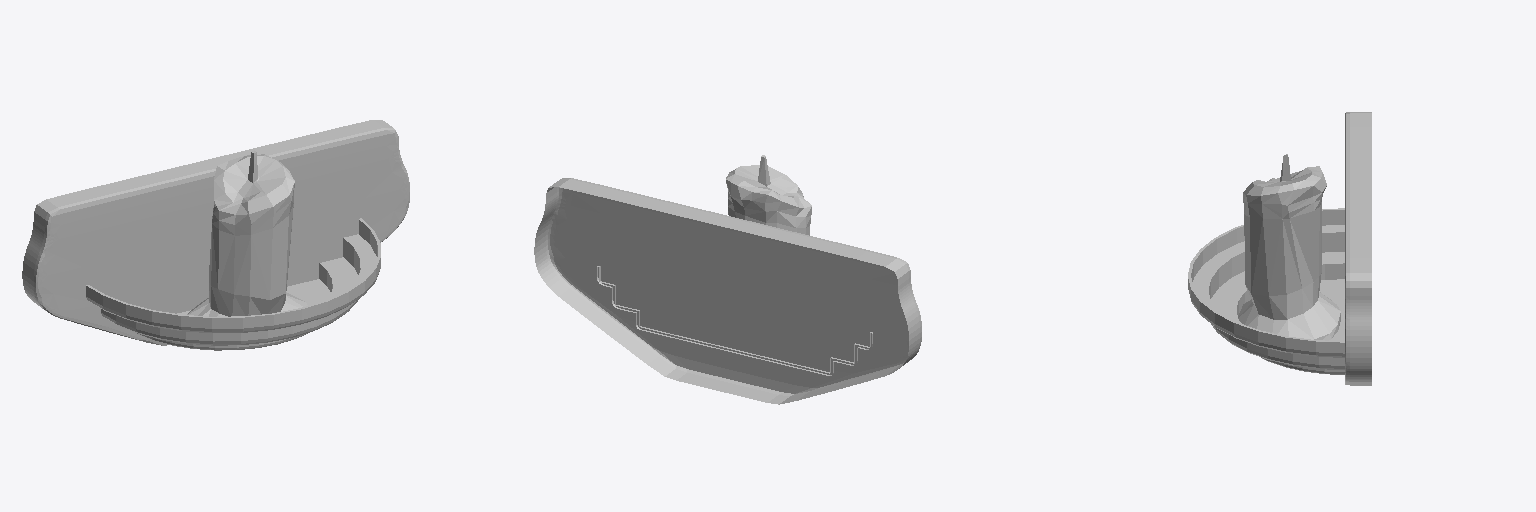
Rendered from SetA_WallCandleHolder_Style_01.obj.
3 renders of one model, left to right at view 1: azimuth 30°, elevation 25°; view 2: azimuth 150°, elevation 25°; view 3: azimuth 270°, elevation 25°, orthographic.
Visible parts, largest first — view 1: SetA_WallCandleHolder_Style_01; view 2: SetA_WallCandleHolder_Style_01; view 3: SetA_WallCandleHolder_Style_01.
Part boxes in pixels (left/top/right/bottom): SetA_WallCandleHolder_Style_01: left=22, top=120, right=409, bottom=350; SetA_WallCandleHolder_Style_01: left=534, top=155, right=921, bottom=404; SetA_WallCandleHolder_Style_01: left=1188, top=112, right=1371, bottom=385.
Size of the model in its own units: 0.3933 by 0.2046 by 0.1677.